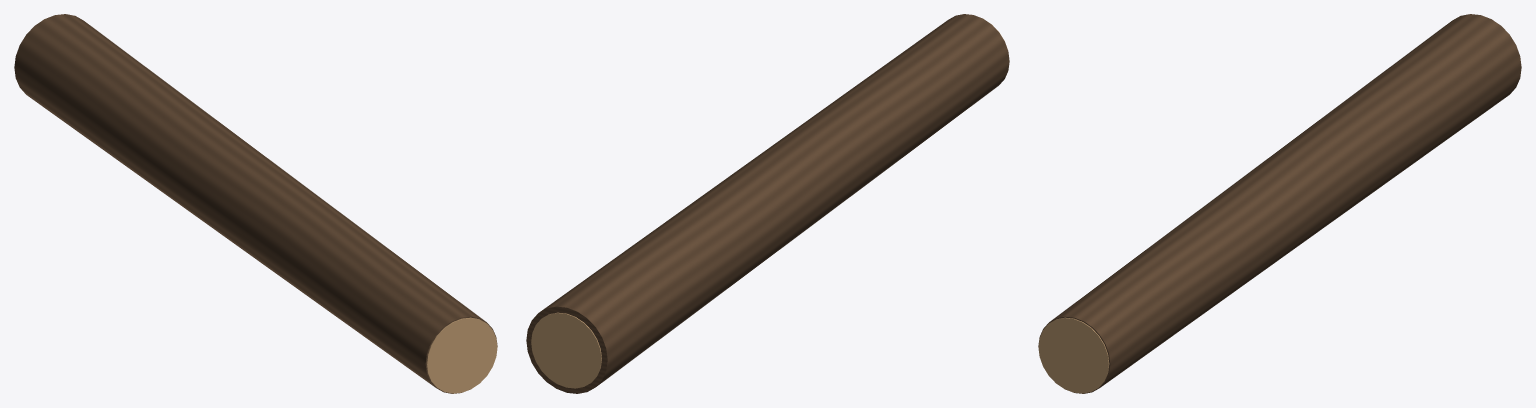
Rendered from prop-timber_log.gltf.
The picture shows the model from 3 angles, left to right: view 1: azimuth 30°, elevation 25°; view 2: azimuth 150°, elevation 25°; view 3: azimuth 330°, elevation 25°; orthographic projection.
Parts seen in each view (by area): view 1: timber_log; view 2: timber_log; view 3: timber_log.
Boxes of the visible parts, box(x1,y1,x2,y2) form: timber_log: box(14, 14, 497, 393); timber_log: box(526, 14, 1009, 393); timber_log: box(1038, 14, 1521, 393).
Bounding box in the file's own units: 0.104 × 0.104 × 0.903.
Materials: 2 (1 with a texture image).
